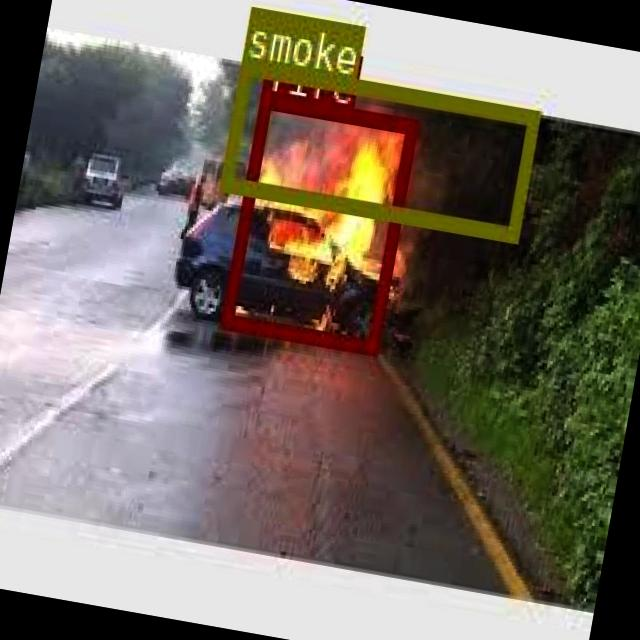fire: (218, 90, 415, 350)
smoke: (218, 58, 538, 240)
